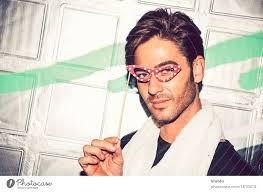white_male: (133, 41, 201, 122)
